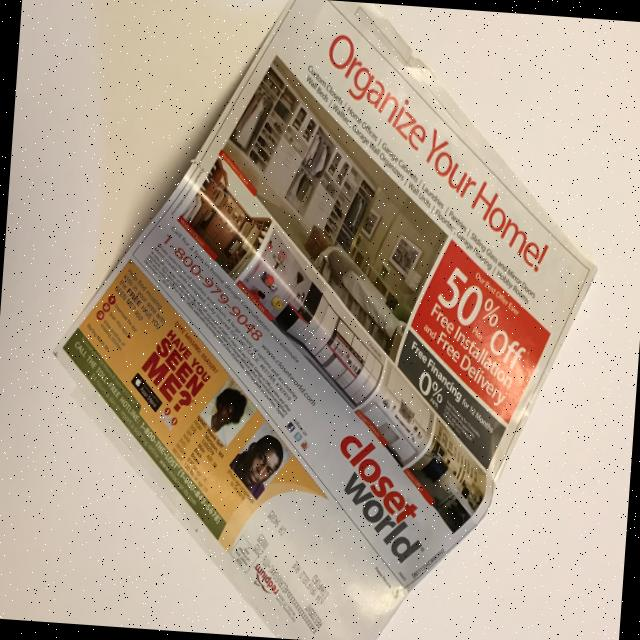paper: (32, 0, 614, 640)
